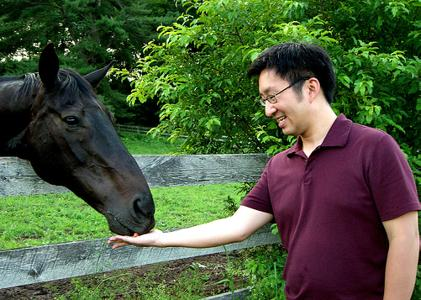person: (103, 44, 420, 300)
